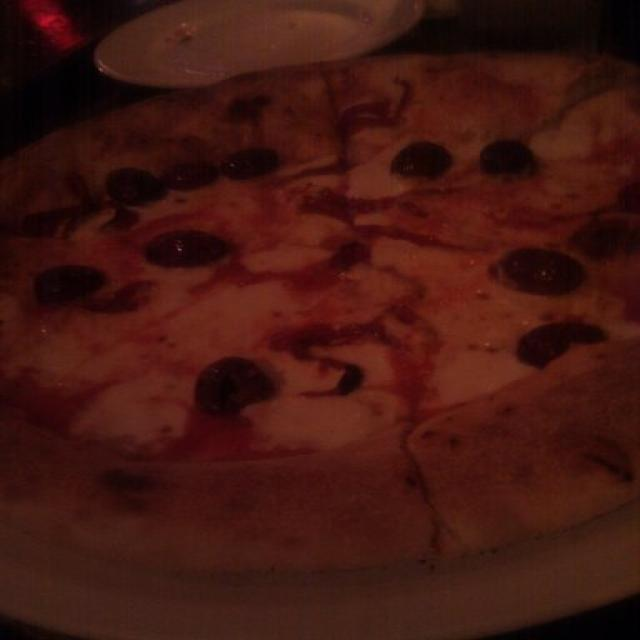Olives: (199, 364, 284, 413), (523, 320, 593, 367), (38, 262, 106, 306), (151, 230, 228, 267), (508, 250, 570, 294), (393, 142, 448, 179), (106, 167, 158, 205), (479, 143, 530, 179), (230, 149, 276, 181), (172, 161, 218, 189)
Pizza: (0, 50, 640, 574)
